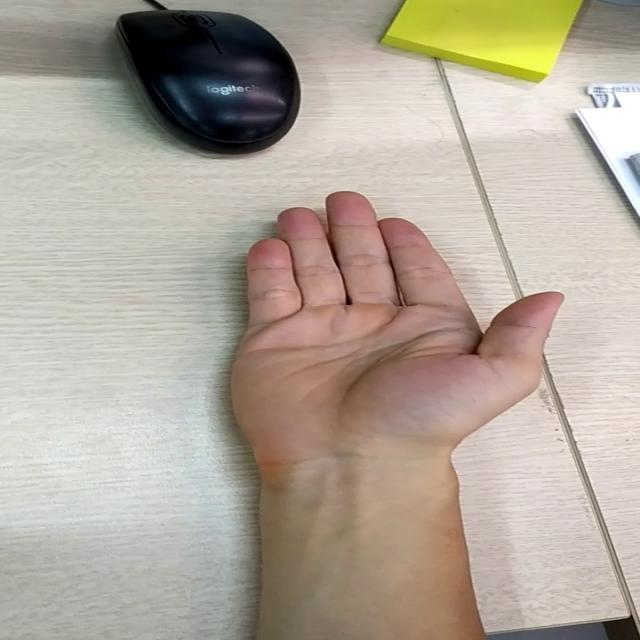hand: (240, 187, 541, 442)
